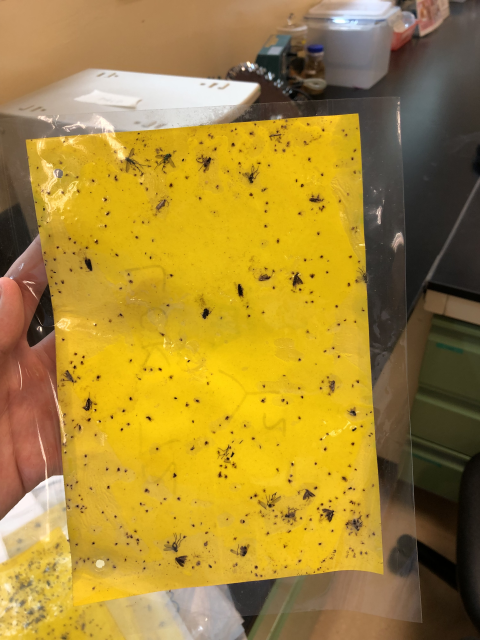DBM: (80, 391, 94, 413), (319, 506, 337, 523), (81, 253, 94, 274), (155, 196, 171, 213), (254, 271, 275, 283), (299, 488, 317, 502), (291, 272, 305, 290), (174, 555, 189, 568), (235, 282, 245, 299)
